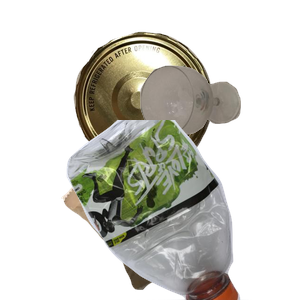glass: (138, 63, 300, 191)
metal: (71, 29, 276, 193)
plastic: (64, 120, 300, 300)
trash: (59, 124, 273, 300)
